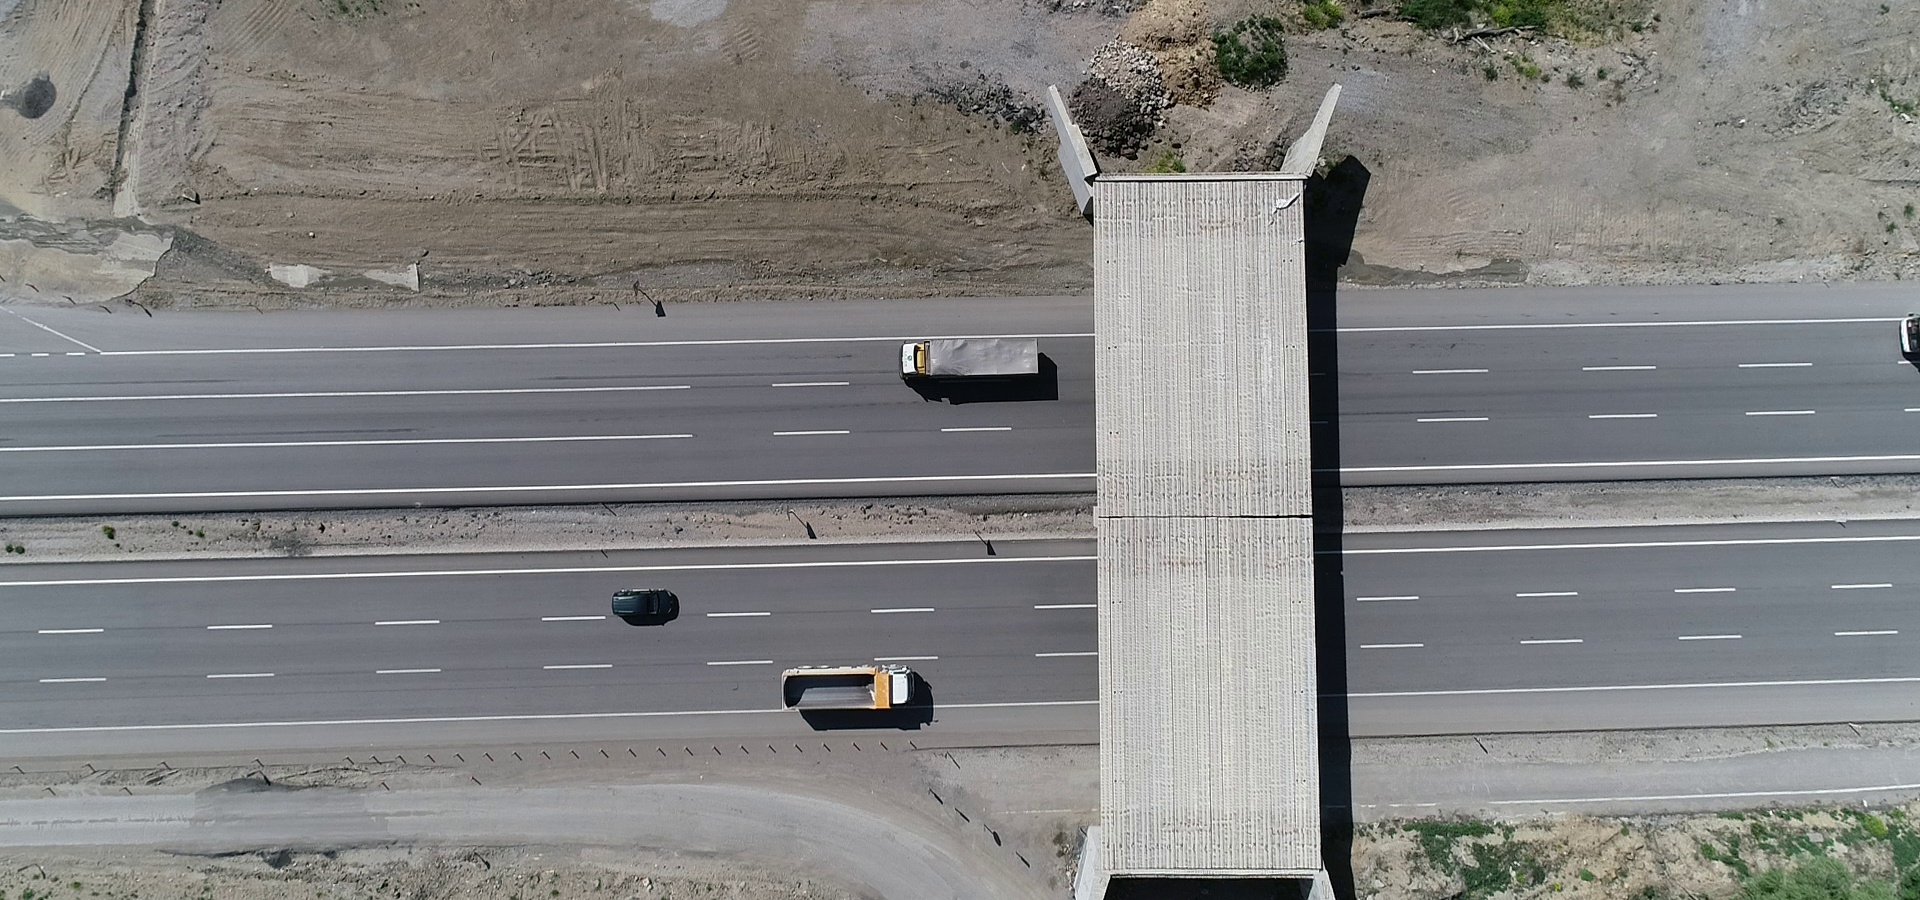araba: (605, 578, 694, 620)
kamyon: (888, 329, 1067, 386)
kamyonet: (776, 662, 928, 719)
